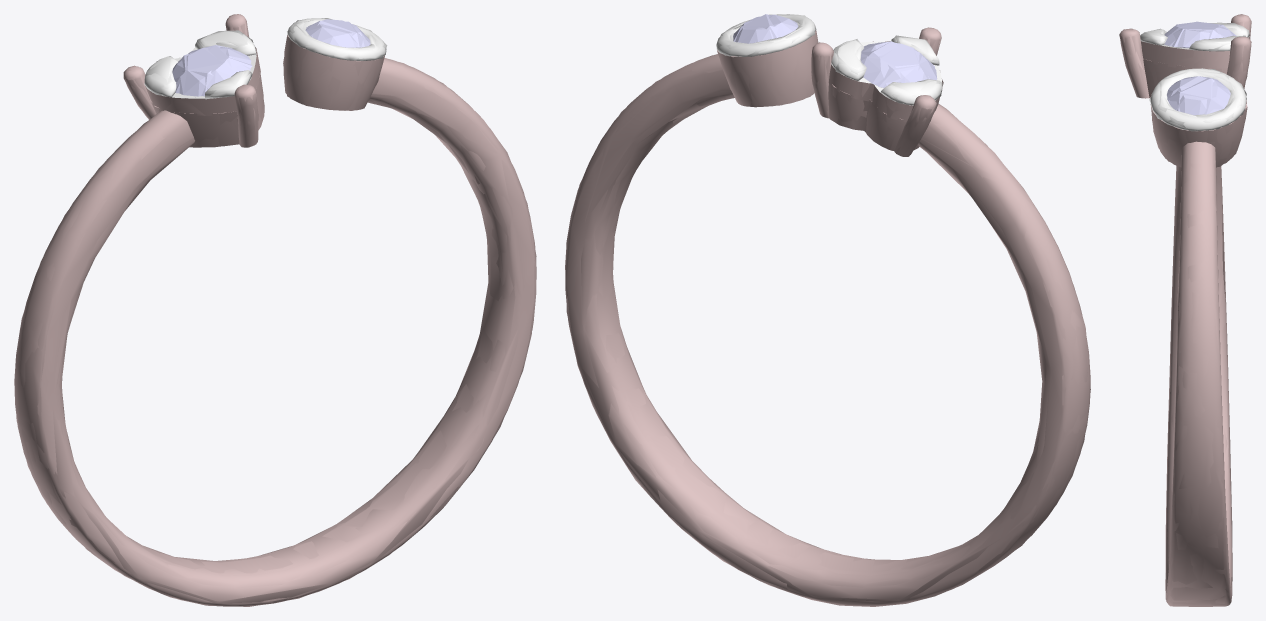
Rendered from DLR-D000187355.glb.
3 views of the same model, side by side, from view 1: azimuth 30°, elevation 25°; view 2: azimuth 150°, elevation 25°; view 3: azimuth 270°, elevation 25° (orthographic). The views are drawn at different scales.
Parts seen in each view (by area): view 1: highPolyMesh, lowPolyMesh; view 2: highPolyMesh, lowPolyMesh; view 3: highPolyMesh, lowPolyMesh.
Boxes of the visible parts, x1,y1,x2,y2 form: highPolyMesh: [14, 14, 536, 606]; lowPolyMesh: [15, 14, 536, 606]; highPolyMesh: [565, 14, 1090, 606]; lowPolyMesh: [566, 14, 1090, 606]; highPolyMesh: [1120, 14, 1251, 606]; lowPolyMesh: [1119, 14, 1251, 606].
Bounding box in the file's own units: 0.0193 × 0.0202 × 0.00453.
